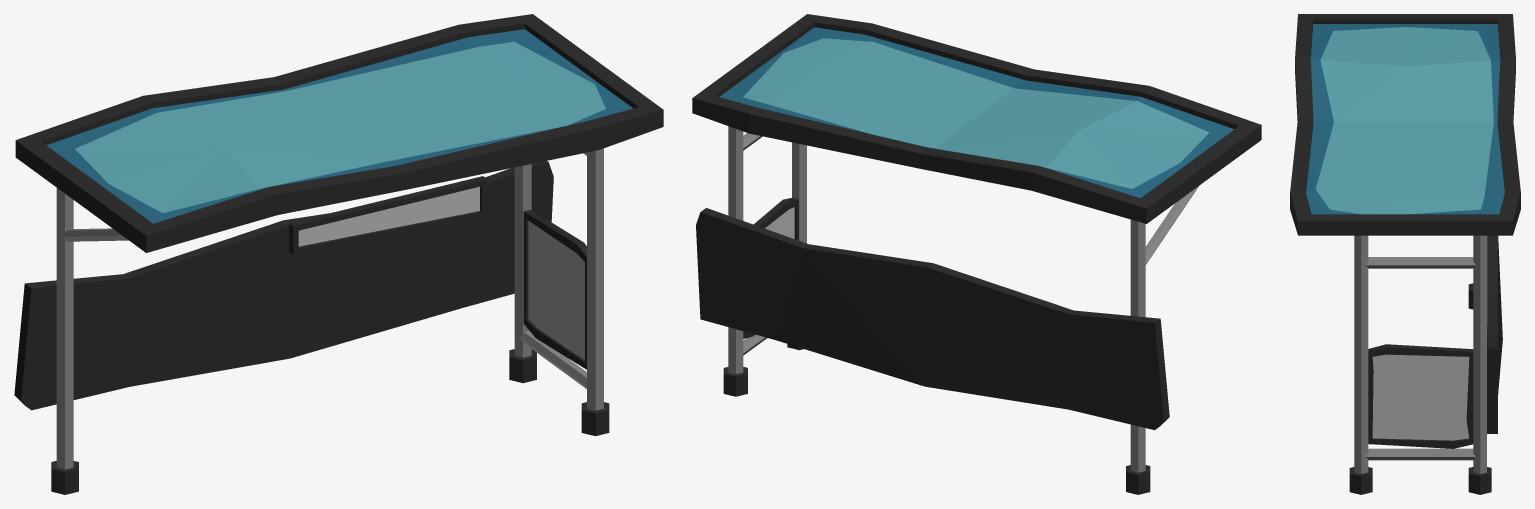
File: Station_01.FBX
3 views of the same model, side by side, from view 1: azimuth 30°, elevation 25°; view 2: azimuth 150°, elevation 25°; view 3: azimuth 270°, elevation 25° (orthographic). The views are drawn at different scales.
Visible parts, largest first — view 1: Station_01; view 2: Station_01; view 3: Station_01.
Boxes of the visible parts, box(x1,y1,x2,y2) form: Station_01: box(14, 14, 663, 494); Station_01: box(692, 14, 1261, 494); Station_01: box(1290, 14, 1520, 494).
Size of the model in its own units: 4.91 by 3.1 by 2.24.
